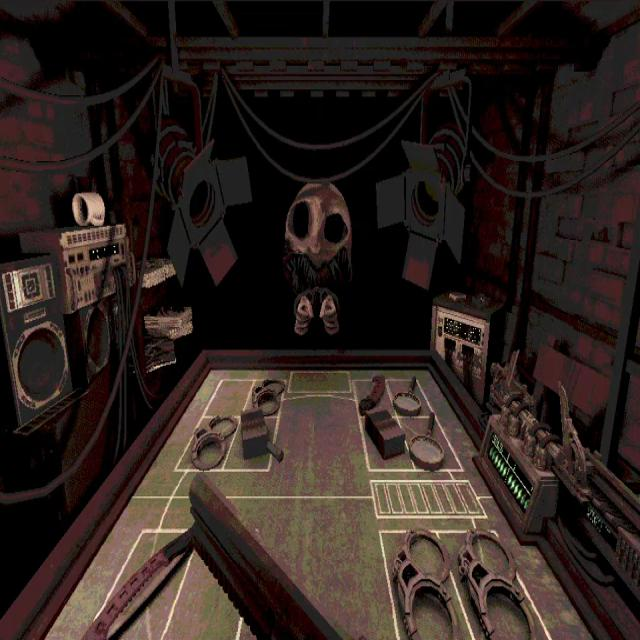ally: (43, 489, 601, 634)
doubledamage: (82, 528, 191, 639), (357, 374, 385, 415)
emptyspace: (174, 414, 240, 472), (399, 417, 459, 470), (222, 416, 279, 470), (360, 419, 416, 471), (202, 377, 254, 418)
enemyspace: (138, 369, 490, 491)
handcuff: (457, 529, 535, 638), (393, 529, 459, 639), (251, 378, 287, 414)
lens: (392, 375, 421, 416)
